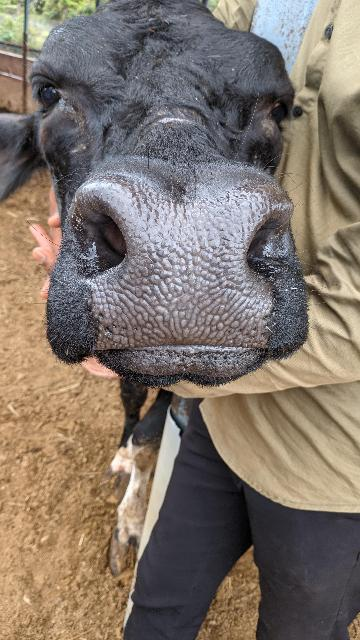Muzzle: (88, 183, 266, 341)
